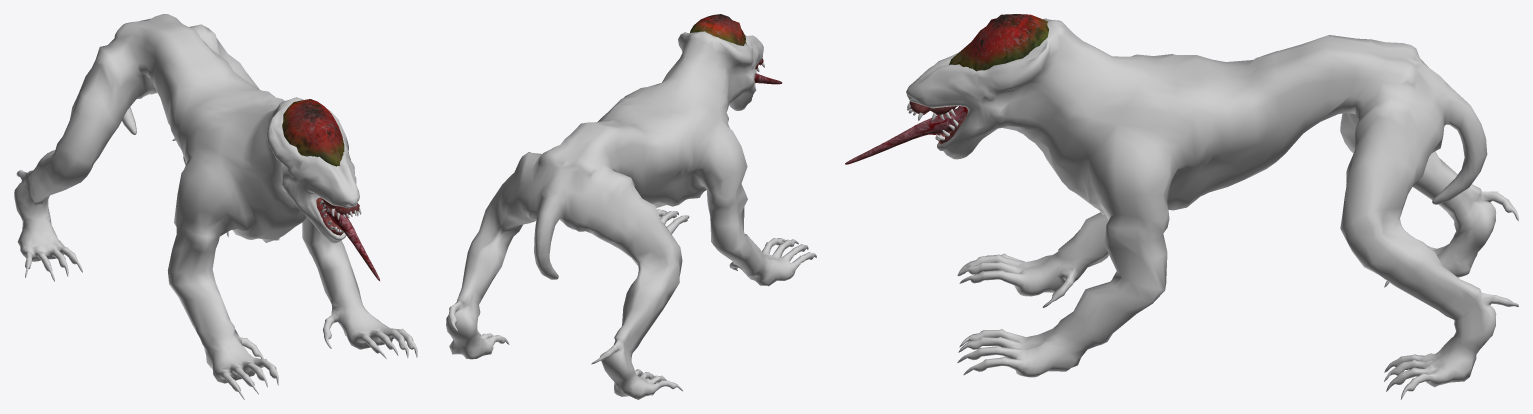
File: Bio Hound Game Ready.fbx
The picture shows the model from 3 angles, left to right: view 1: azimuth 30°, elevation 25°; view 2: azimuth 150°, elevation 25°; view 3: azimuth 270°, elevation 25°; orthographic projection. The views are drawn at different scales.
Parts seen in each view (by area): view 1: HOUND_HOUND.001; view 2: HOUND_HOUND.001; view 3: HOUND_HOUND.001.
Part boxes in pixels (x1=…): HOUND_HOUND.001: x1=14, y1=14, x2=417, y2=399; HOUND_HOUND.001: x1=446, y1=14, x2=816, y2=399; HOUND_HOUND.001: x1=845, y1=14, x2=1518, y2=399.
Size of the model in its own units: 421 by 431 by 828.
